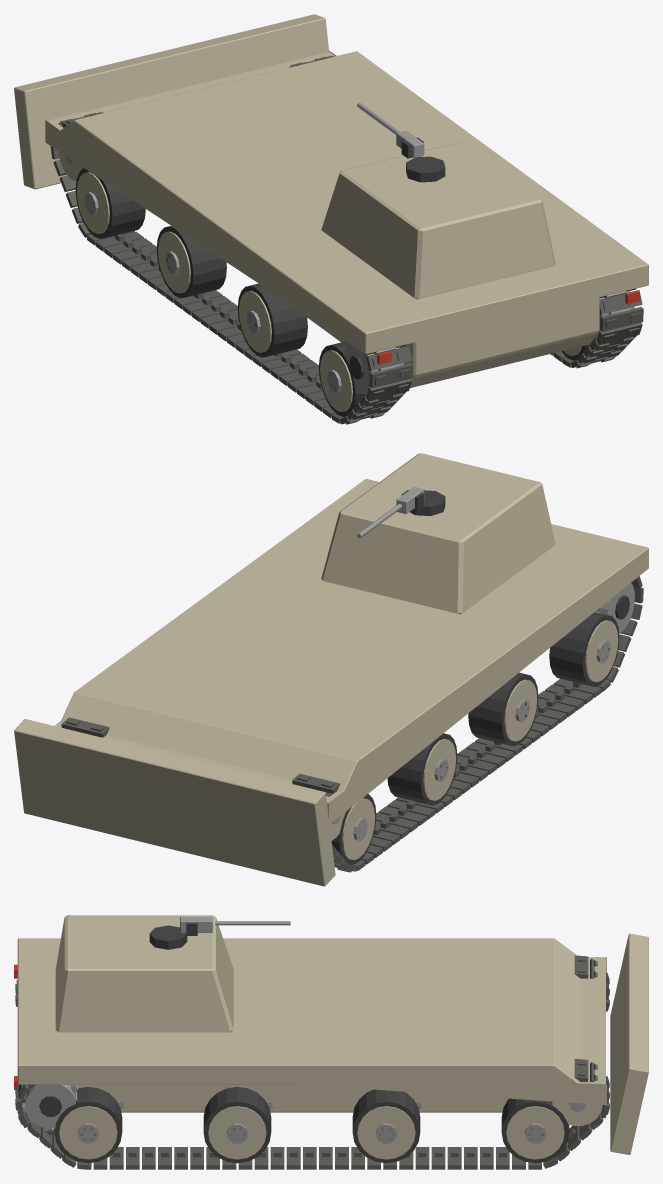
Rendered from usa_eng_ace.glb.
3 views of the same model, one above another, from view 1: azimuth 30°, elevation 25°; view 2: azimuth 150°, elevation 25°; view 3: azimuth 270°, elevation 25° (orthographic). The views are drawn at different scales.
Visible parts, largest first — view 1: body, turret, barrel; view 2: body, barrel; view 3: body, barrel, turret.
Boxes of the visible parts, x1,y1,x2,y2 form: body: [14, 14, 648, 424]; turret: [406, 156, 445, 182]; barrel: [357, 102, 424, 158]; body: [14, 453, 648, 886]; barrel: [357, 486, 424, 538]; body: [14, 915, 648, 1169]; barrel: [180, 917, 290, 935]; turret: [149, 925, 187, 949].
Size of the model in its own units: 3.4 by 2.24 by 6.75.
